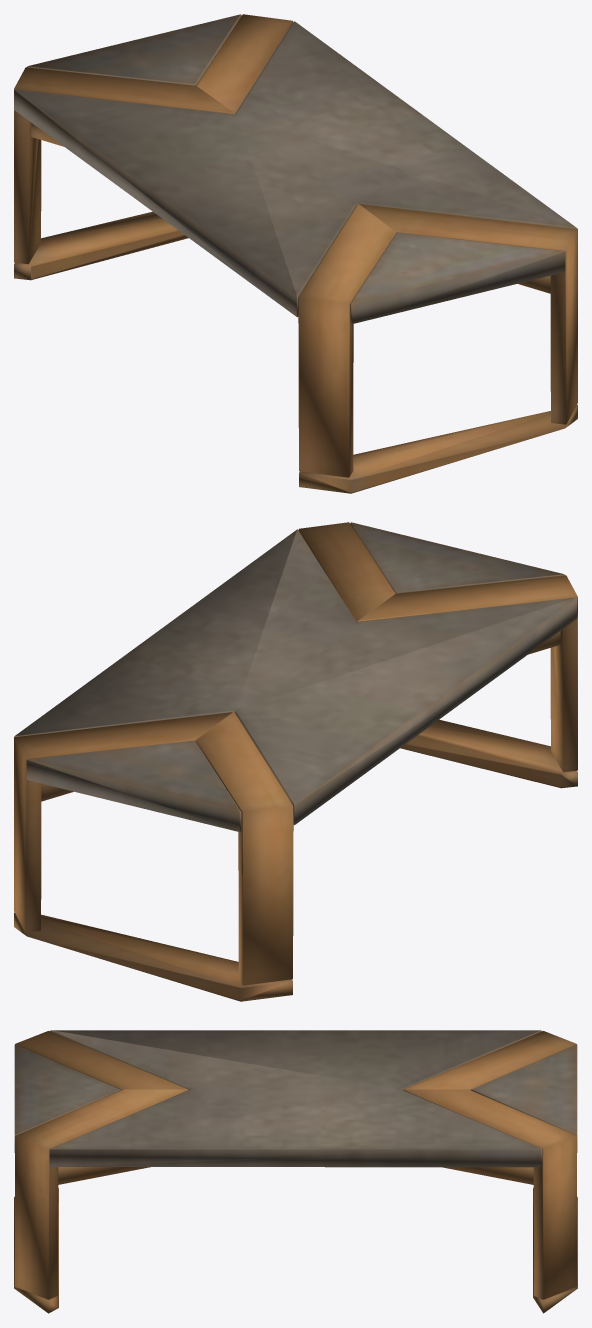
Rendered from modern_coffee_table_01.glb.
The picture shows the model from 3 angles, top to bottom: view 1: azimuth 30°, elevation 25°; view 2: azimuth 150°, elevation 25°; view 3: azimuth 270°, elevation 25°; orthographic projection. The views are drawn at different scales.
Visible parts, largest first — view 1: modern_coffee_table_01; view 2: modern_coffee_table_01; view 3: modern_coffee_table_01.
Part boxes in pixels (x1,y1,x2,y2): modern_coffee_table_01: (14, 14, 577, 493); modern_coffee_table_01: (14, 522, 577, 1001); modern_coffee_table_01: (14, 1030, 577, 1313).
Bounding box in the file's own units: 0.5986 × 0.3888 × 1.2.
Materials: 1 (1 with a texture image).
